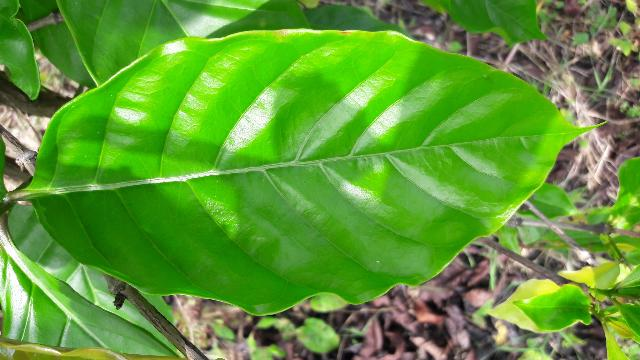healthy: (28, 36, 568, 312)
